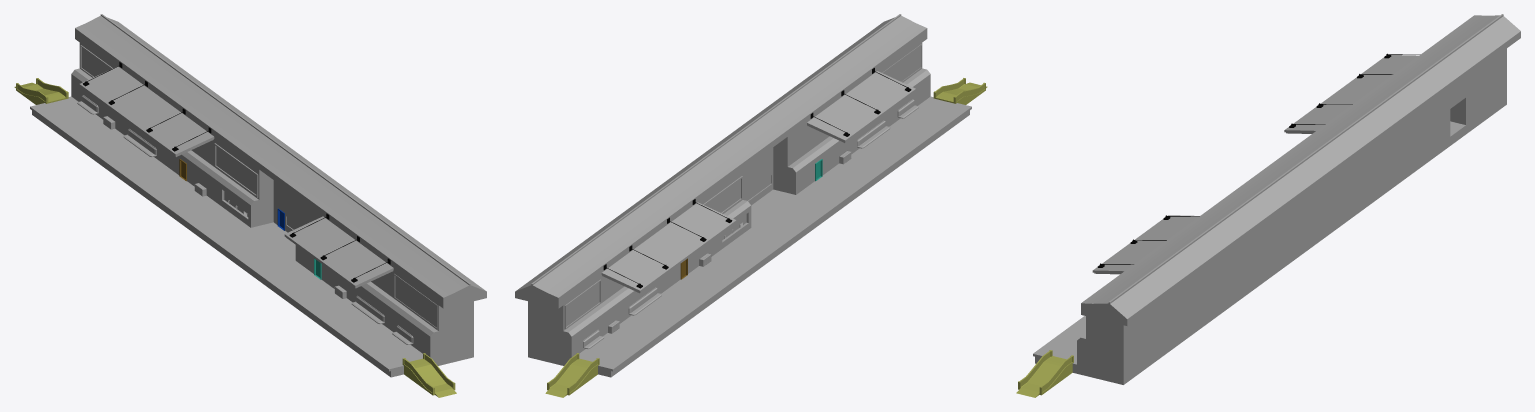
Rendered from Station.fbx.
3 renders of one model, left to right at view 1: azimuth 30°, elevation 25°; view 2: azimuth 150°, elevation 25°; view 3: azimuth 330°, elevation 25°, orthographic. The views are drawn at different scales.
Parts seen in each view (by area): view 1: polySurface4, polySurface5, polySurface1; view 2: polySurface4, polySurface1, polySurface5; view 3: polySurface4, polySurface5.
Boxes of the visible parts, <box> form: polySurface4: <box>30,14,486,377</box>; polySurface5: <box>402,353,456,397</box>; polySurface1: <box>14,78,68,104</box>; polySurface4: <box>515,14,971,377</box>; polySurface1: <box>545,353,599,397</box>; polySurface5: <box>933,78,987,104</box>; polySurface4: <box>1033,14,1520,384</box>; polySurface5: <box>1016,350,1073,397</box>.
Size of the model in its own units: 22.5 by 18.21 by 178.
